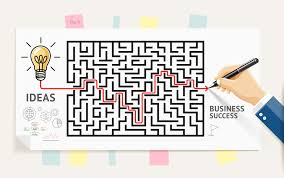maze: (66, 39, 205, 138)
